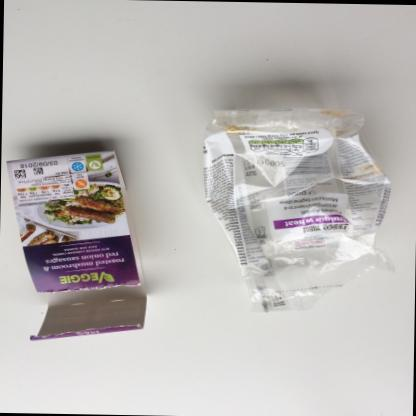Paper: (6, 149, 146, 340)
Plastic: (203, 105, 395, 312)
